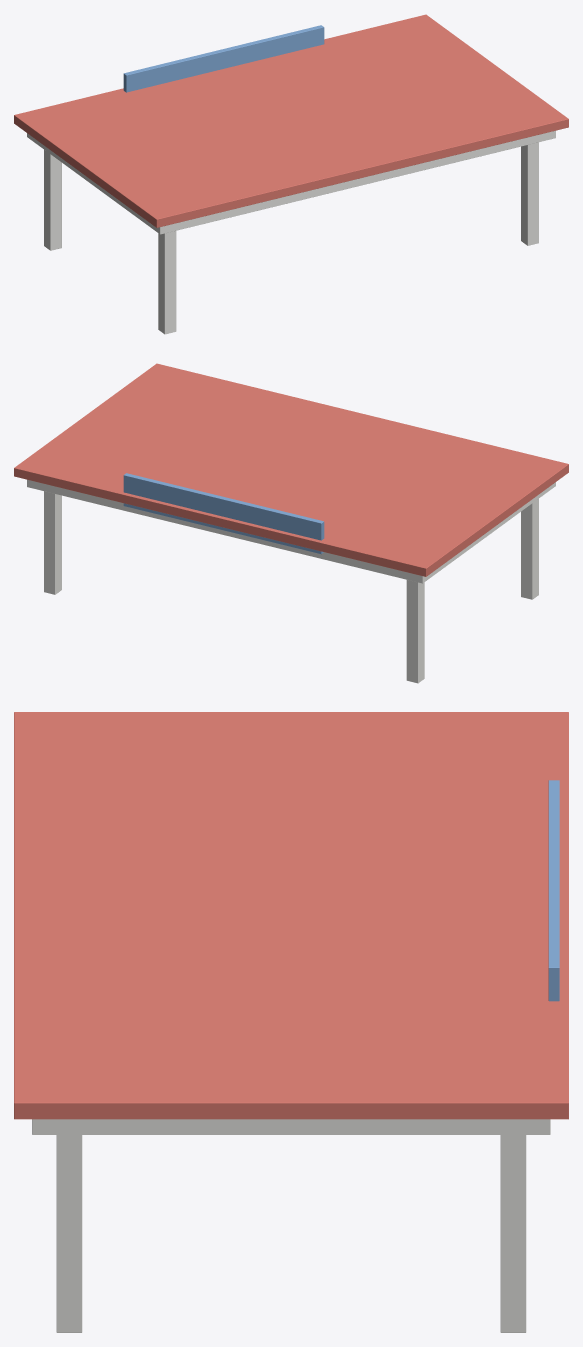
The model's file is 构筑_加油站罩棚_01.fbx.
3 views of the same model, one above another, from view 1: azimuth 30°, elevation 25°; view 2: azimuth 150°, elevation 25°; view 3: azimuth 270°, elevation 25° (orthographic). The views are drawn at different scales.
Parts seen in each view (by area): view 1: 檐板.001, 立柱.008, 招牌.002, 顶板.004; view 2: 檐板.001, 立柱.008, 招牌.002, 顶板.004; view 3: 檐板.001, 立柱.008, 顶板.004, 招牌.002.
Boxes of the visible parts, x1=… form: 檐板.001: x1=14, y1=14, x2=568, y2=227; 立柱.008: x1=44, y1=142, x2=538, y2=334; 招牌.002: x1=123, y1=25, x2=324, y2=92; 顶板.004: x1=27, y1=130, x2=555, y2=234; 檐板.001: x1=14, y1=363, x2=568, y2=576; 立柱.008: x1=44, y1=491, x2=538, y2=683; 招牌.002: x1=123, y1=473, x2=324, y2=554; 顶板.004: x1=27, y1=479, x2=555, y2=583; 檐板.001: x1=14, y1=712, x2=568, y2=1119; 立柱.008: x1=56, y1=1135, x2=526, y2=1332; 顶板.004: x1=32, y1=1119, x2=550, y2=1134; 招牌.002: x1=548, y1=780, x2=559, y2=1001.
Bounding box in the file's own units: 2500 × 840 × 1500.
